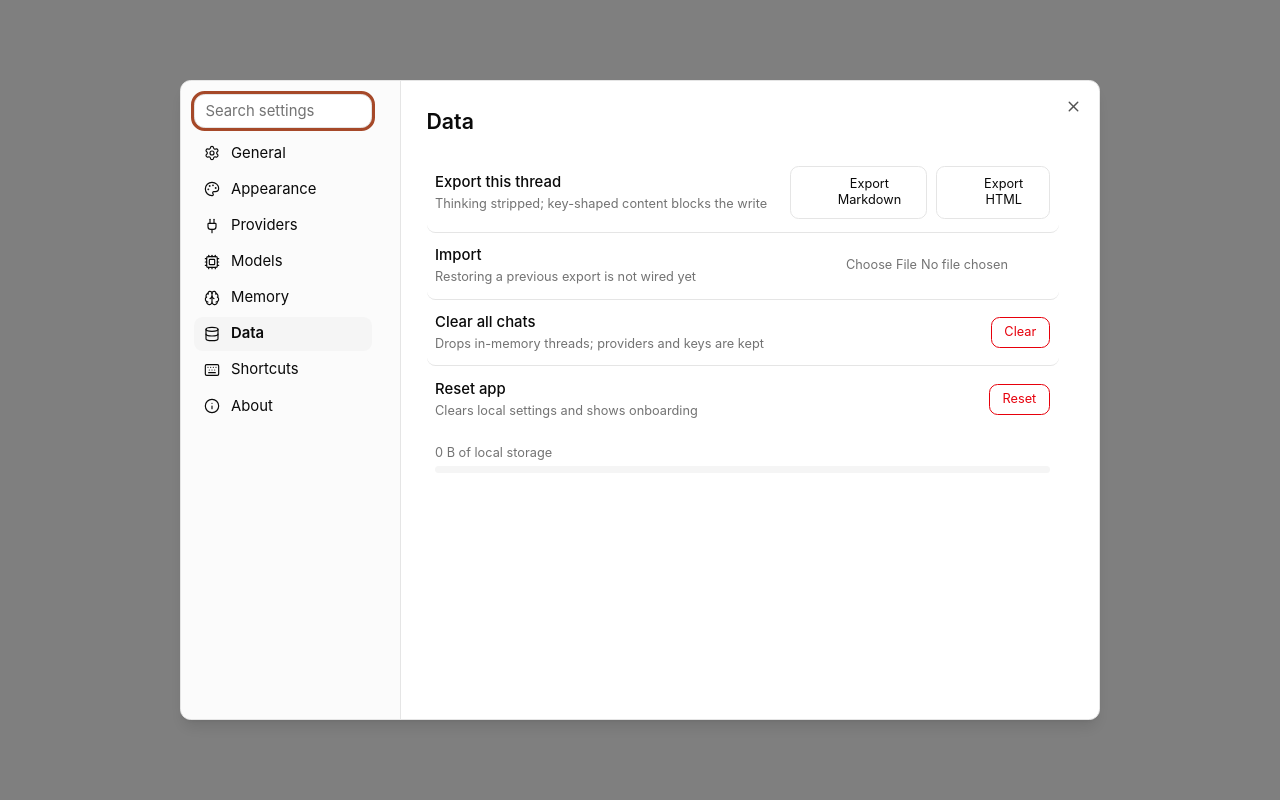
Test: SettingsDialog › clear all chats confirms first, then resets the store
Click the button "Clear".
click(1020, 332)  # box [991,317,1050,348]
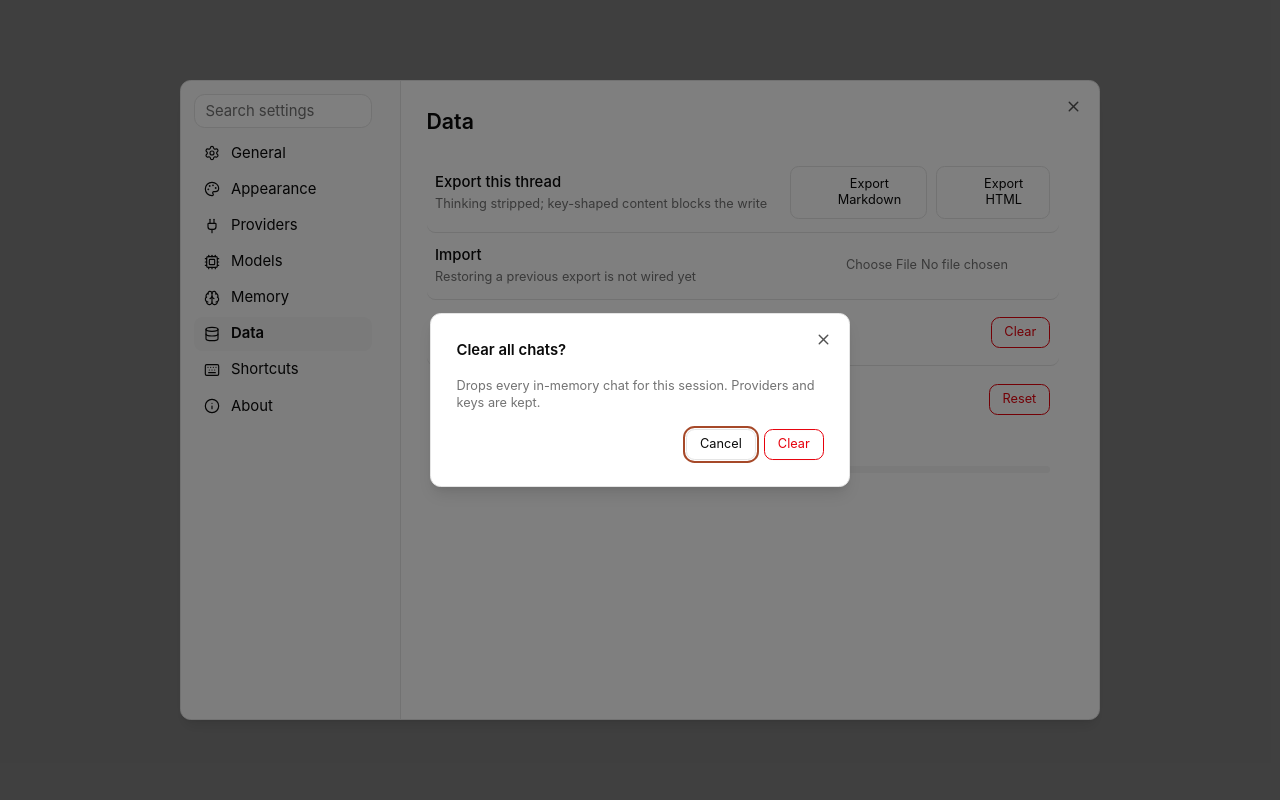
Click the button with test id "confirm-clear-chats".
click(794, 445)  # box [764,429,824,460]
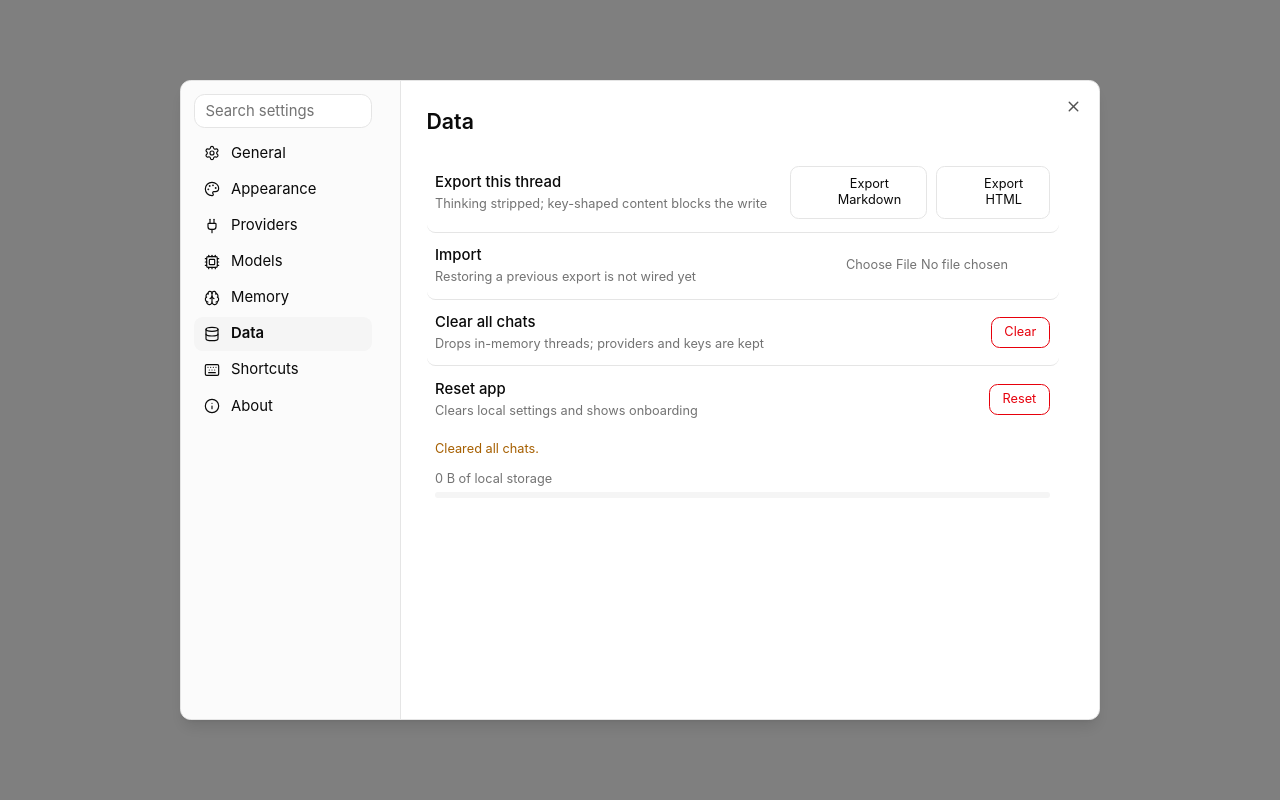
Expected: the text "0 B of local storage" is shown, [435,470,552,486]
Now the text "Cleared all chats." is shown, box [435,441,539,456]
